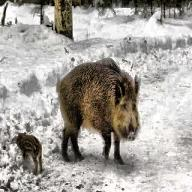boar: (57, 57, 140, 165)
